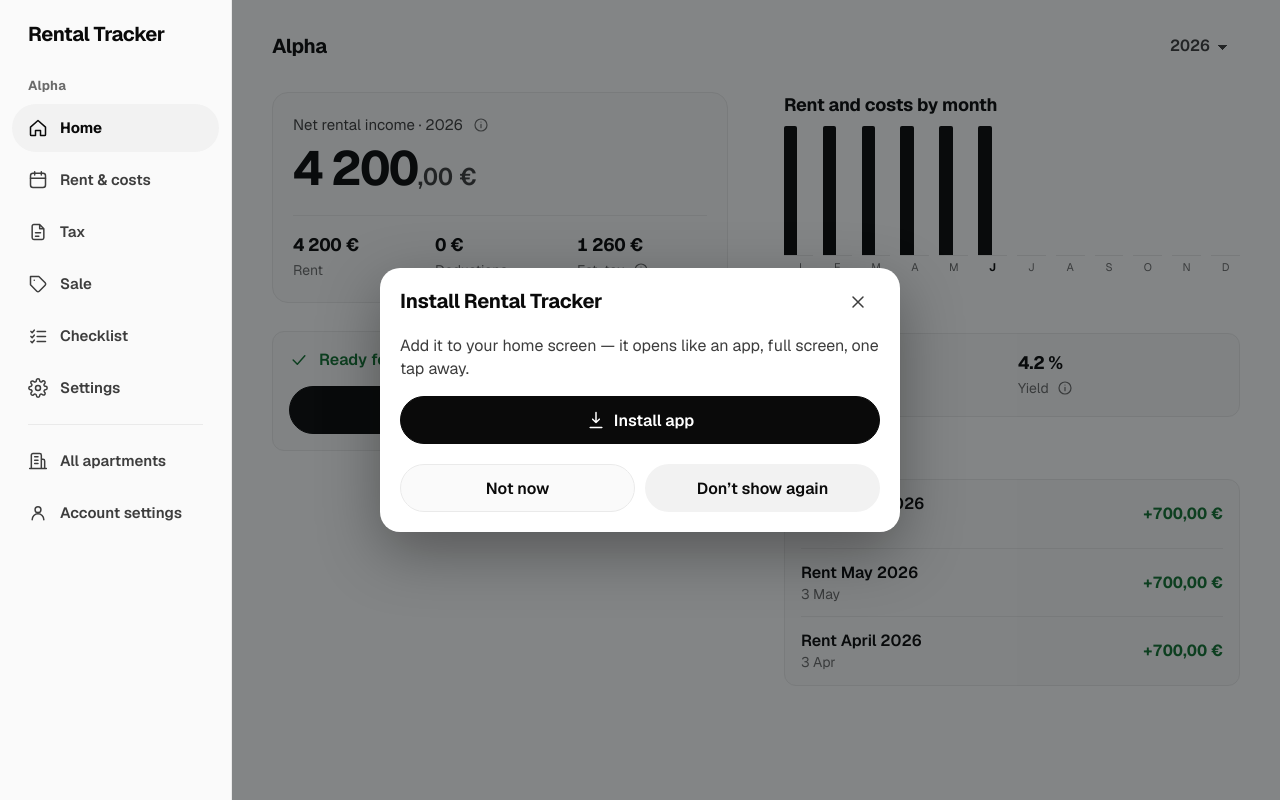
Test: moving between apartments › names the apartment at the top and goes back to the portfolio from it
Expected: the heading "Alpha" is shown, [272,32,327,58]
Step 1. Click the button "All apartments" → (116, 461), box [12,437,219,485]
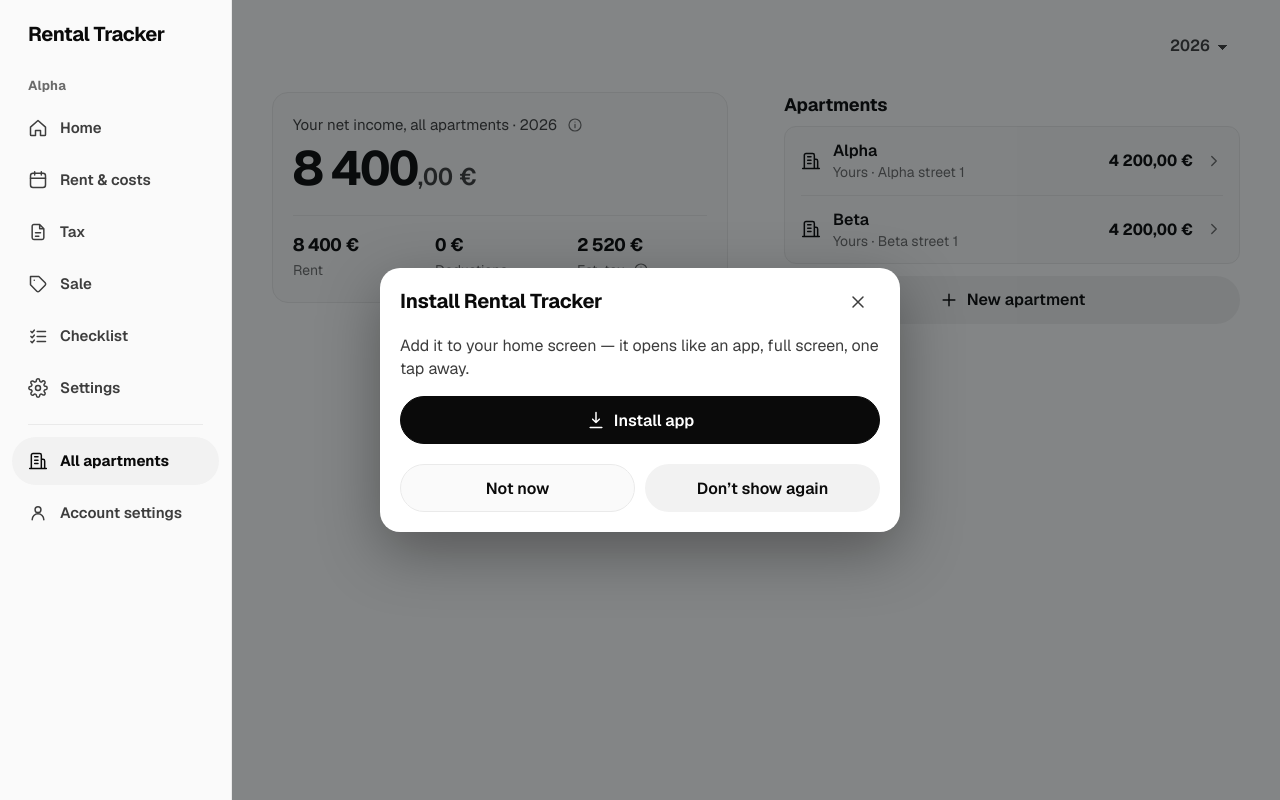
Now the button "Alpha Yours · Alpha street 1 4 200,00 €" is shown, box [801,127,1223,196]
Now the button "Beta Yours · Beta street 1 4 200,00 €" is shown, box [801,196,1223,263]
